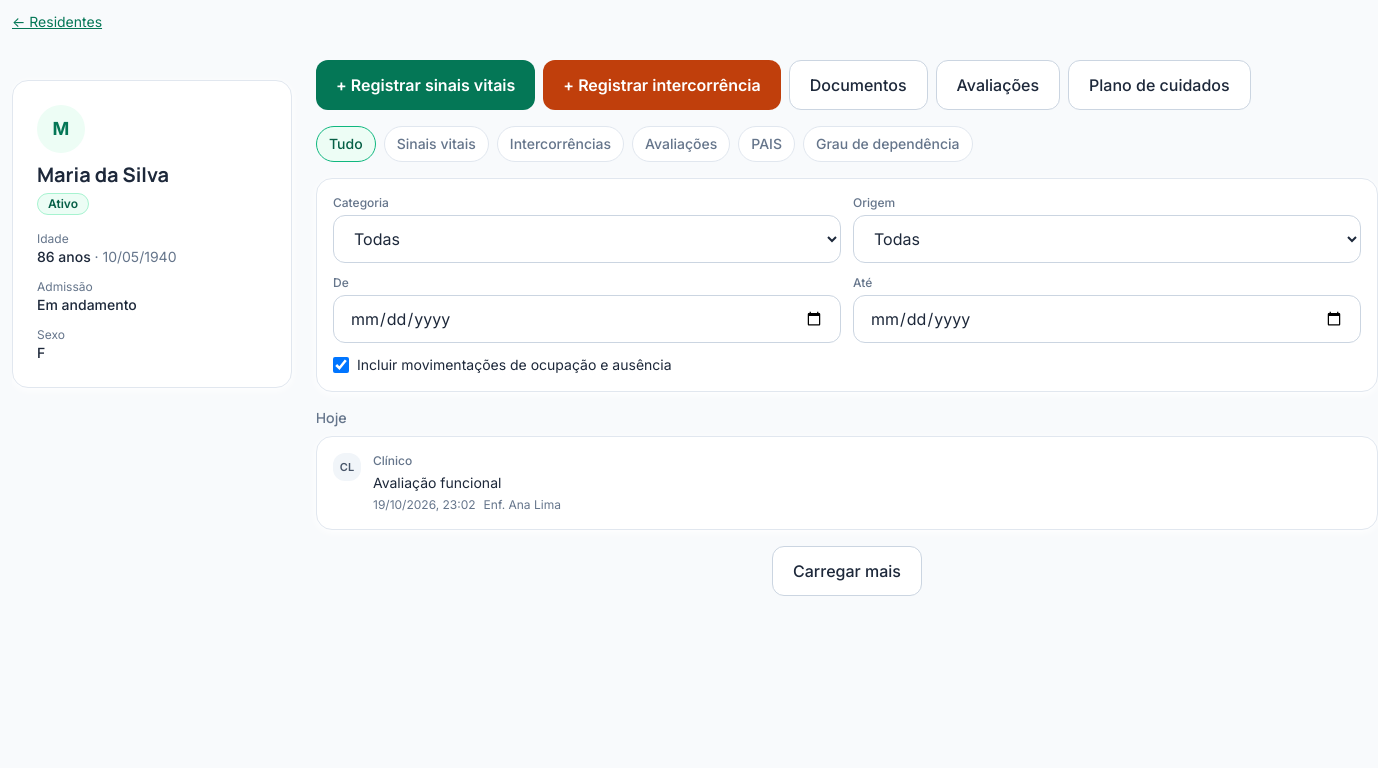
Test case: ResidenteProntuario › 10. falha ao carregar página adicional preserva os eventos já carregados
This screenshot has width=1378, height=768.
Check: the text "Avaliação funcional" is shown, box [373, 474, 501, 491]
Click the button "Carregar mais" at (847, 571), box [772, 546, 922, 596]
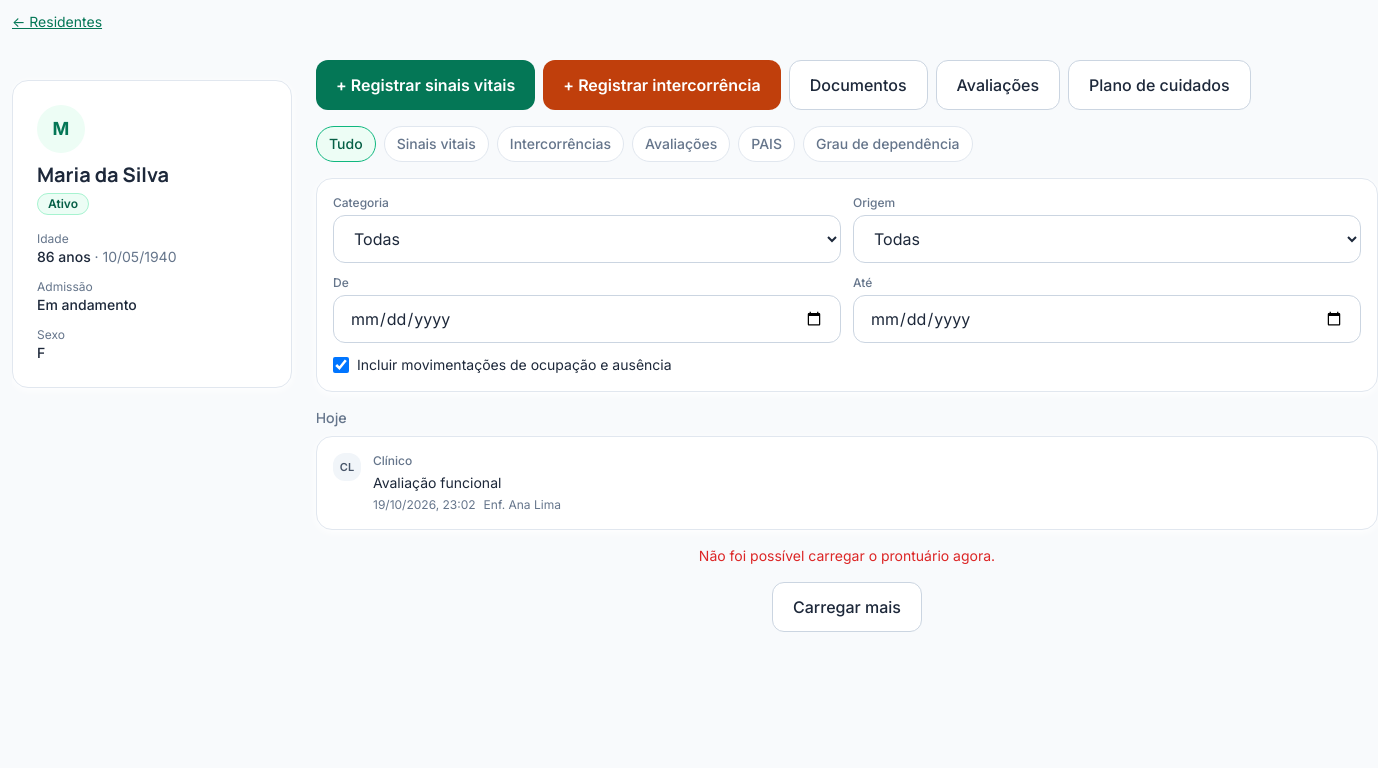
Check: the text "Avaliação funcional" is shown, box [373, 474, 501, 491]
Check: the text "Não foi possível carregar o prontuário agora." is shown, box [699, 547, 995, 564]
